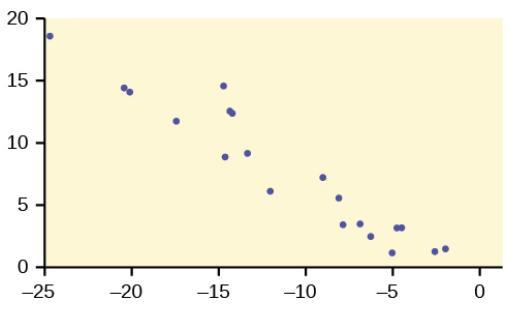axis: (33, 263, 505, 278), (33, 10, 49, 278)
point: (241, 146, 255, 160), (263, 184, 277, 198), (169, 114, 184, 127), (317, 170, 330, 184), (352, 217, 366, 230), (364, 229, 377, 242), (217, 150, 231, 162), (335, 219, 349, 231), (385, 247, 399, 259), (428, 245, 440, 258), (440, 242, 452, 255), (123, 85, 137, 96), (44, 30, 57, 41), (217, 81, 230, 92), (118, 81, 129, 93), (333, 194, 344, 204), (392, 222, 401, 234), (398, 221, 407, 233), (228, 108, 238, 118), (223, 105, 234, 114)
